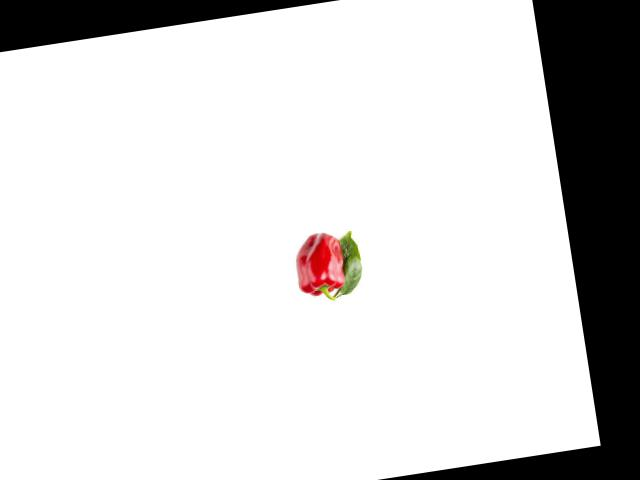bell_pepper: (285, 227, 352, 305)
